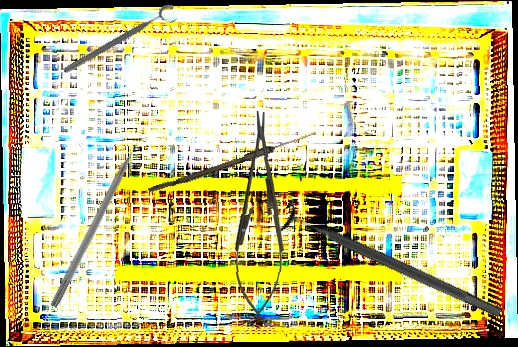Fixation Ring: (274, 199, 508, 331), (60, 1, 182, 83)
Needle Holder: (233, 111, 287, 318)
Pusher: (49, 129, 149, 310)
Surgical Spoon: (147, 128, 318, 197)
